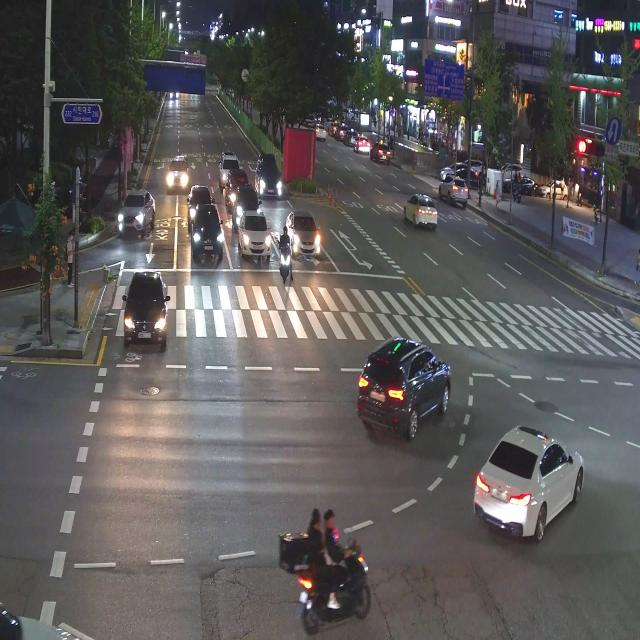Car: (469, 404, 591, 559), (342, 304, 455, 457), (111, 259, 178, 363), (103, 182, 158, 247), (398, 180, 446, 246), (182, 200, 226, 266), (234, 198, 278, 262), (286, 202, 328, 266), (250, 148, 296, 203), (434, 167, 471, 214), (165, 140, 198, 189), (439, 158, 482, 193), (184, 178, 214, 227), (538, 177, 570, 205), (502, 177, 544, 198), (366, 135, 392, 165), (218, 147, 240, 182), (227, 163, 245, 204), (462, 152, 488, 179), (496, 160, 528, 181), (354, 132, 371, 158), (343, 128, 360, 148), (335, 123, 351, 144), (313, 122, 328, 142), (328, 120, 341, 137)
Motorcycle: (270, 486, 381, 634), (278, 218, 296, 294), (511, 169, 522, 204)
